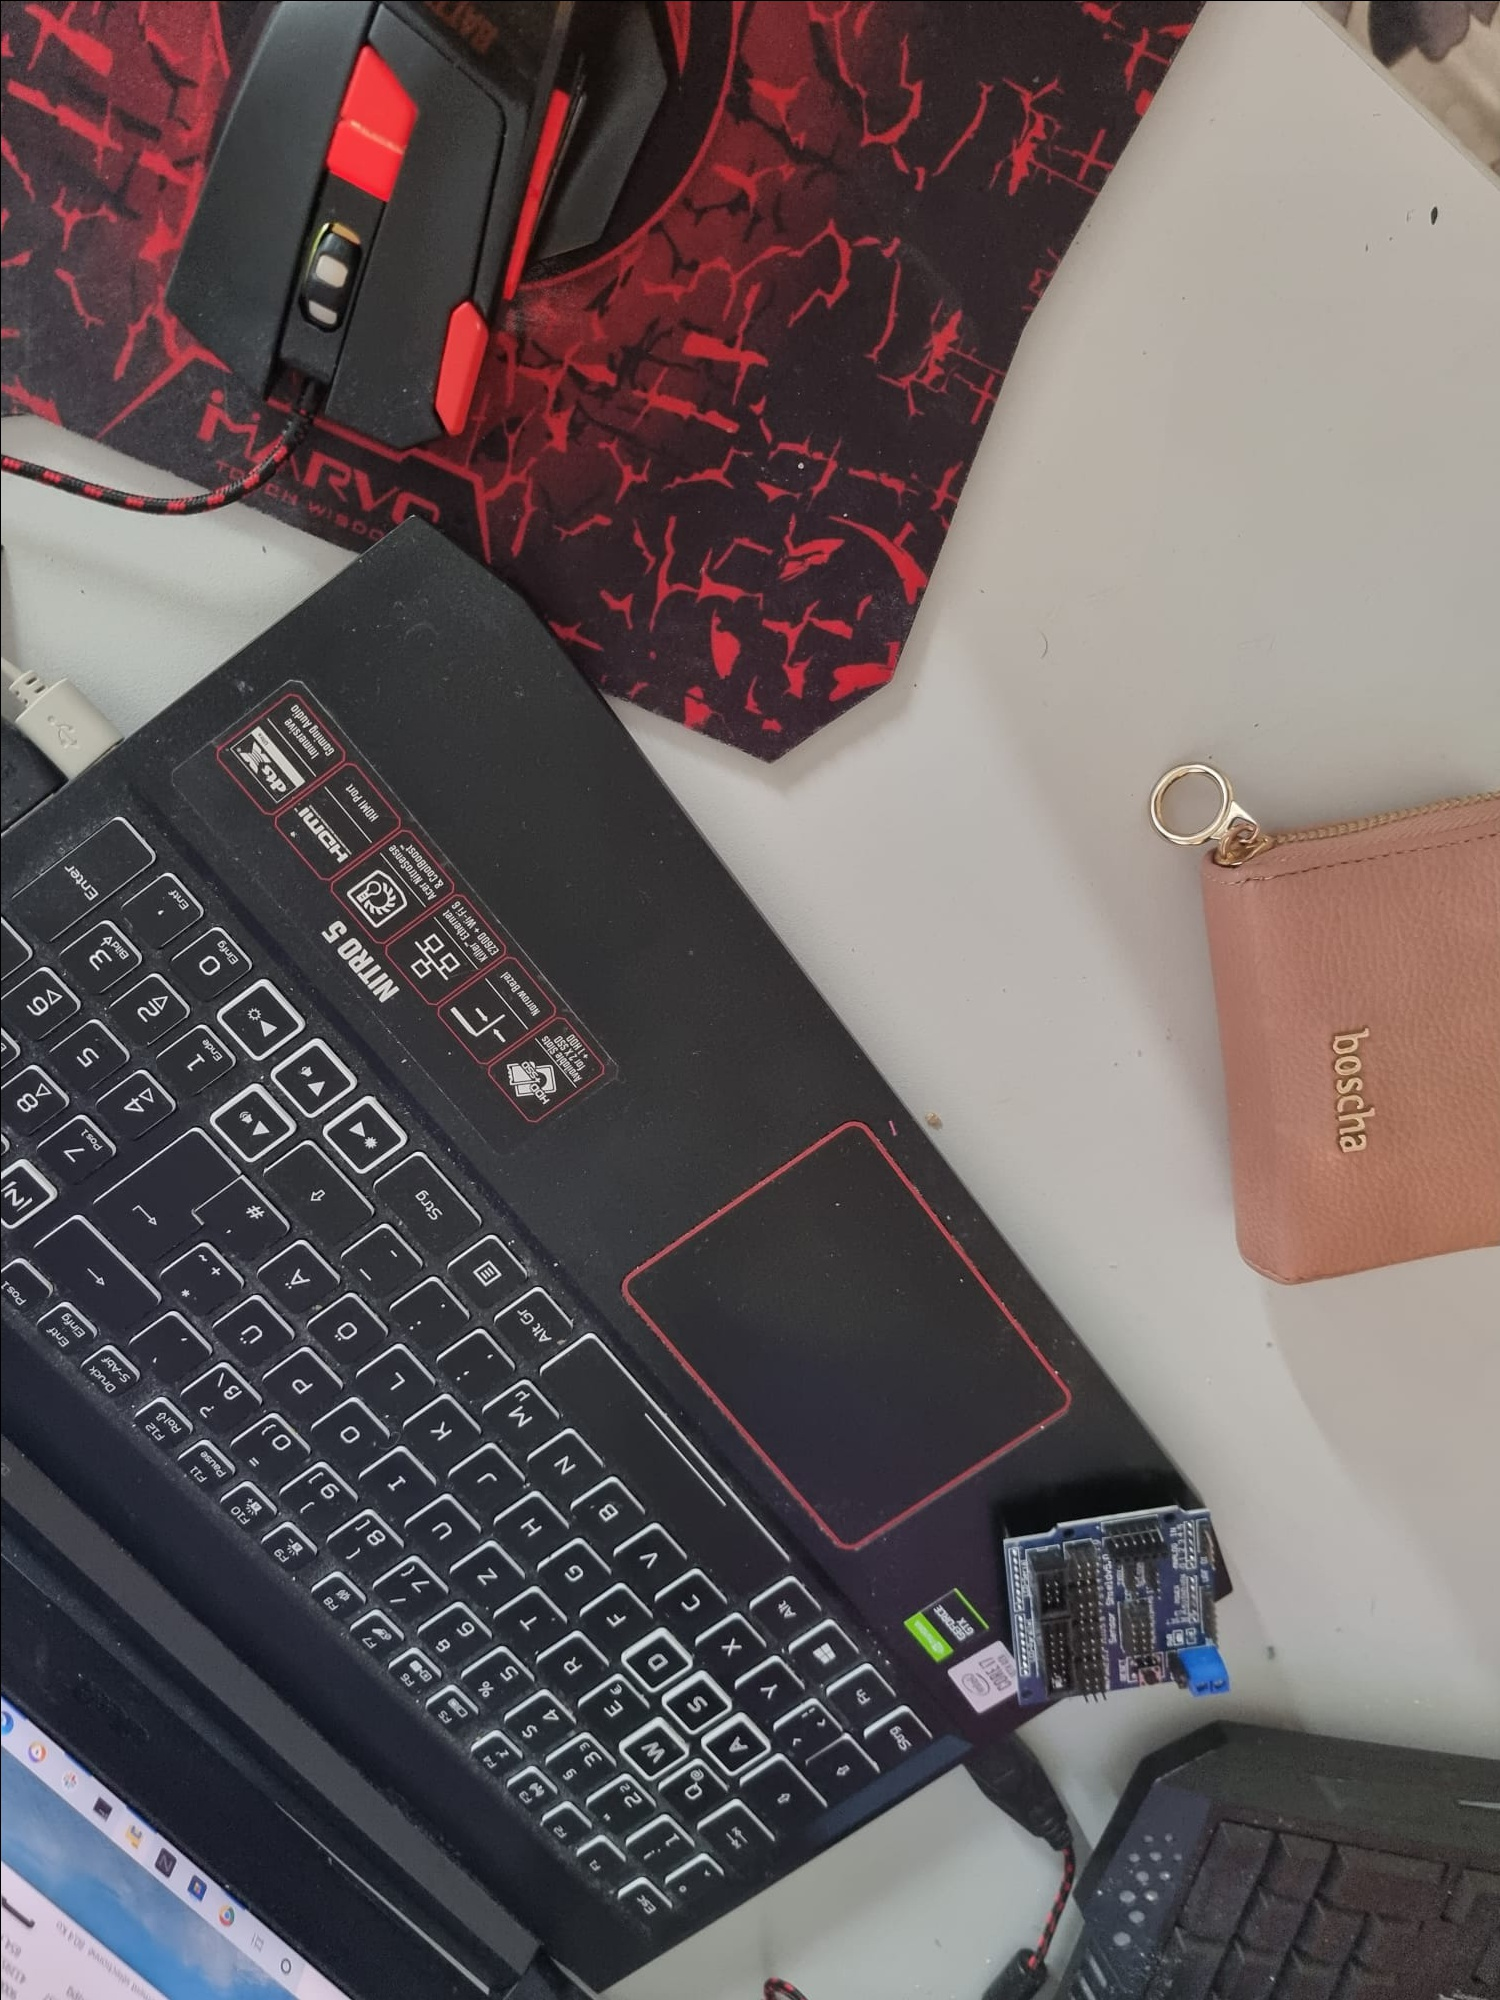5V EXPANSION: (999, 1487, 1234, 1706)
